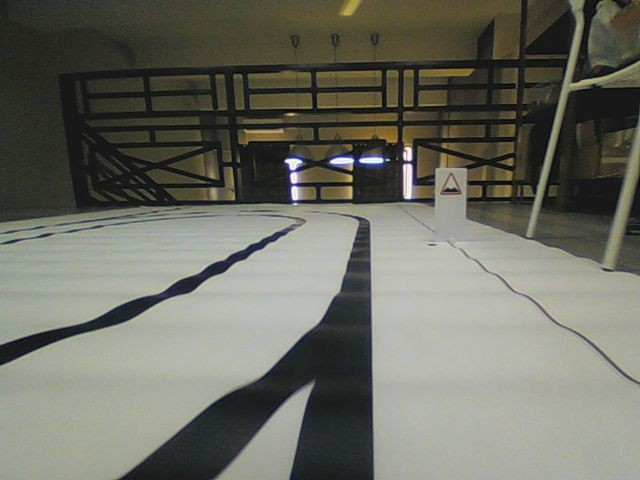Nerov: (438, 170, 463, 196)
